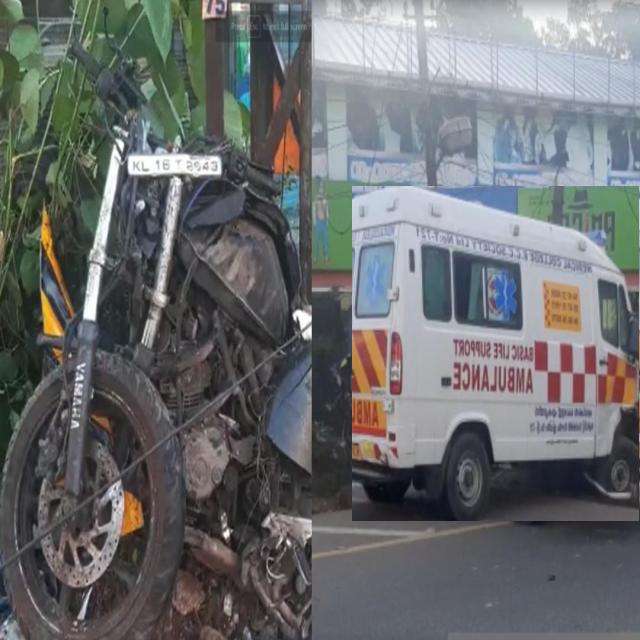accident: (0, 114, 311, 638)
emergency: (352, 186, 640, 521)
